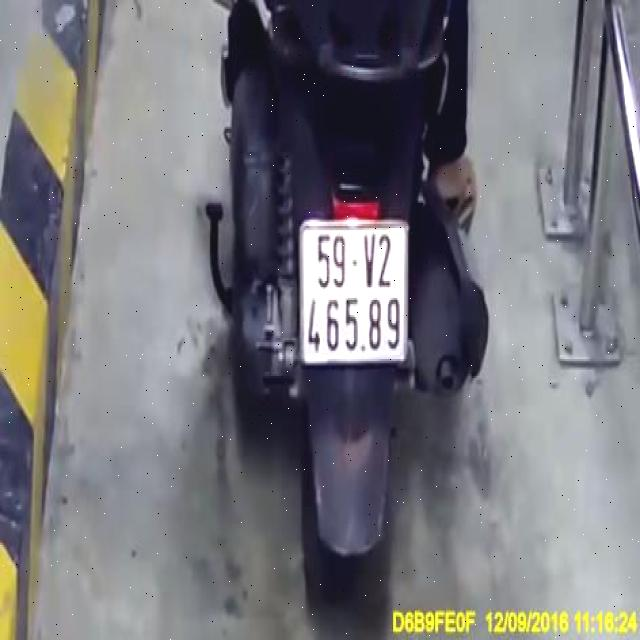2: (378, 232, 394, 288)
4: (307, 297, 324, 354)
5: (316, 232, 334, 293), (344, 294, 360, 354)
6: (325, 297, 342, 354)
8: (366, 297, 382, 349)
9: (331, 236, 348, 291), (385, 298, 402, 350)
V: (362, 229, 376, 286)
